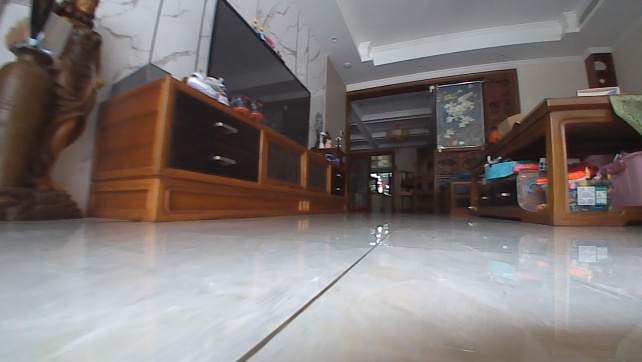TV_stand: (83, 70, 348, 222)
tea_table: (466, 93, 641, 228)
